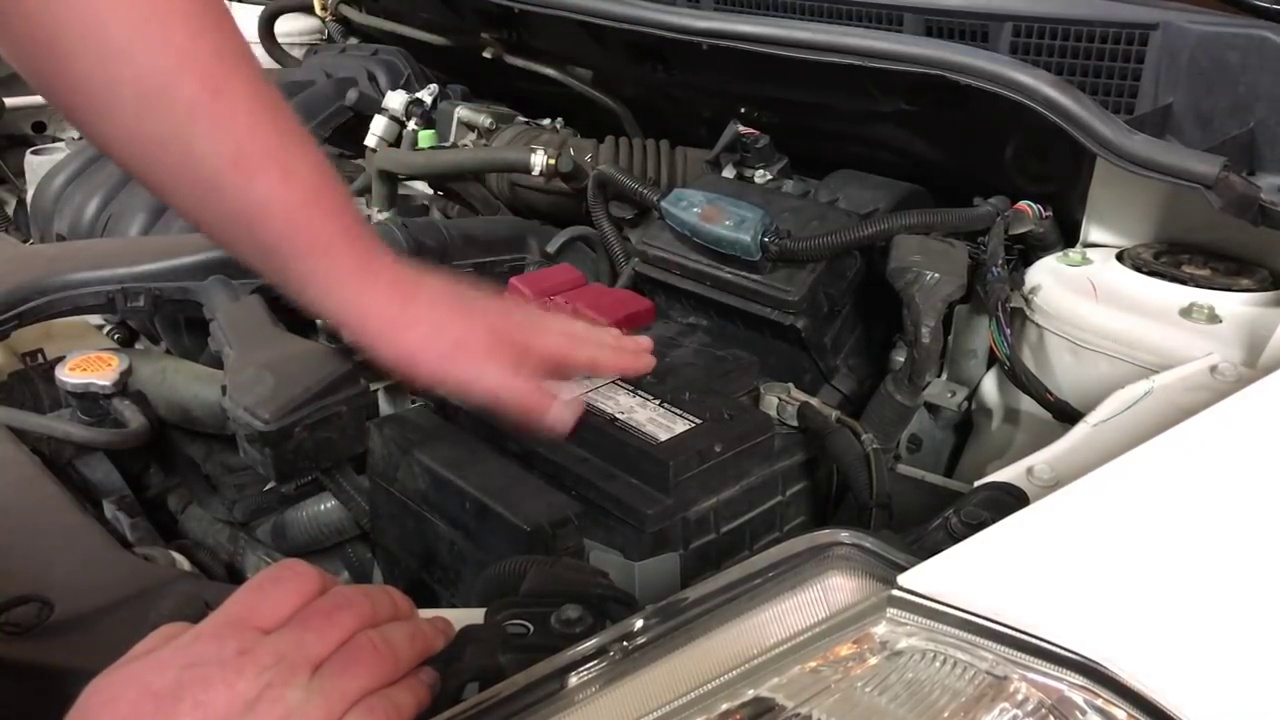battery: (423, 273, 836, 497)
neg_connected: (747, 357, 843, 455)
pos_touched: (456, 231, 645, 383)
